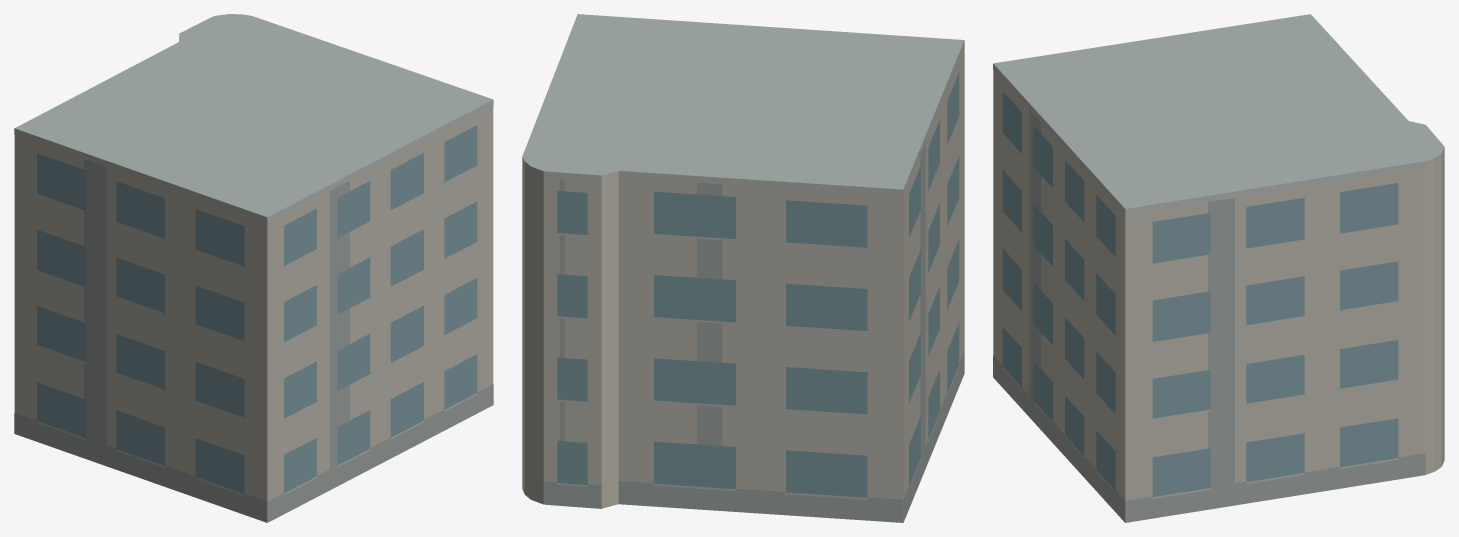
File: residential-13dd15d0-ff10-4521-b266-825b90779eaf.glb
3 views of the same model, side by side, from view 1: azimuth 30°, elevation 25°; view 2: azimuth 150°, elevation 25°; view 3: azimuth 270°, elevation 25° (orthographic). The views are drawn at different scales.
Visible parts, largest first — view 1: residential-13dd15d0-ff10-4521-b266-825b90779eaf.tmp; view 2: residential-13dd15d0-ff10-4521-b266-825b90779eaf.tmp; view 3: residential-13dd15d0-ff10-4521-b266-825b90779eaf.tmp.
Part boxes in pixels (left/top/right/bottom): residential-13dd15d0-ff10-4521-b266-825b90779eaf.tmp: left=14, top=14, right=493, bottom=522; residential-13dd15d0-ff10-4521-b266-825b90779eaf.tmp: left=522, top=14, right=964, bottom=522; residential-13dd15d0-ff10-4521-b266-825b90779eaf.tmp: left=993, top=14, right=1444, bottom=522.
Size of the model in its own units: 15.99 by 12 by 15.65.
